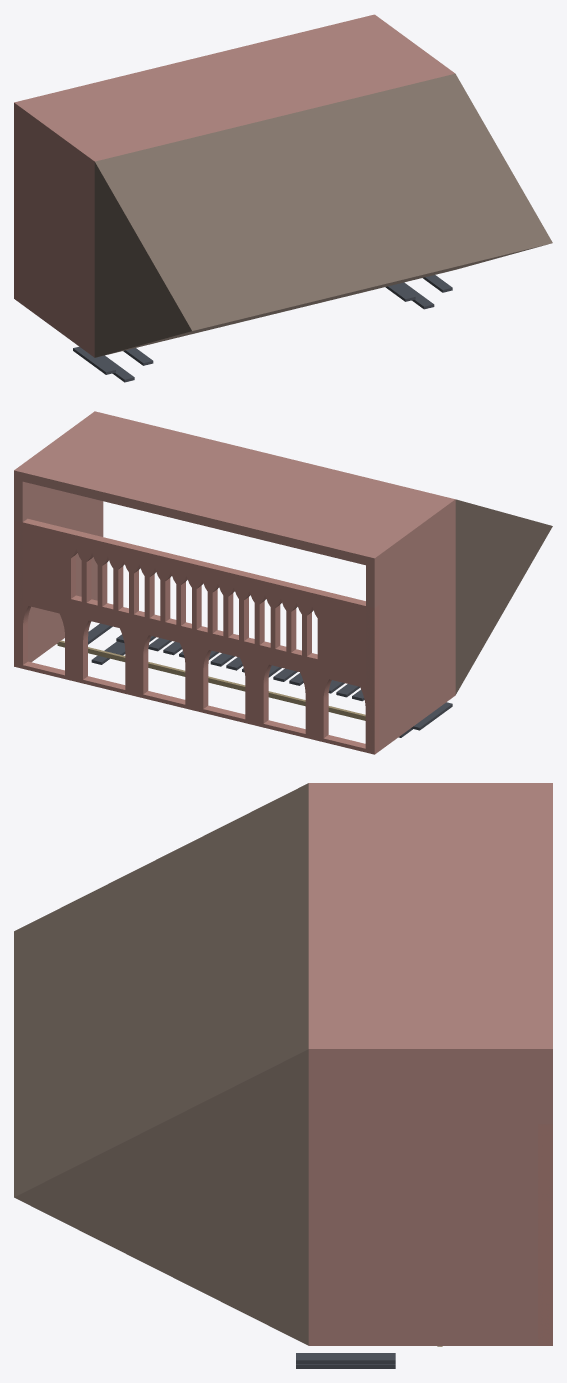
The model's file is eval_L1_fenster.glb.
3 views of the same model, one above another, from view 1: azimuth 30°, elevation 25°; view 2: azimuth 150°, elevation 25°; view 3: azimuth 270°, elevation 25° (orthographic). The views are drawn at different scales.
Parts seen in each view (by area): view 1: dach, waende, fenster, fassade; view 2: waende, fassade, dach, fenster, galerie; view 3: waende, dach, fassade, fenster.
Boxes of the visible parts, x1,y1,x2,y2 form: dach: (94, 73, 552, 357); waende: (14, 14, 454, 357); fenster: (73, 275, 452, 382); fassade: (14, 152, 18, 301); waende: (14, 411, 455, 753); fassade: (14, 518, 379, 754); dach: (455, 499, 552, 694); fenster: (88, 623, 452, 737); galerie: (57, 640, 365, 720); waende: (308, 783, 552, 1345); dach: (14, 783, 308, 1345); fassade: (538, 1124, 552, 1345); fenster: (296, 1353, 395, 1368).
Bounding box in the file's own units: 25 × 14.84 × 21.4.
